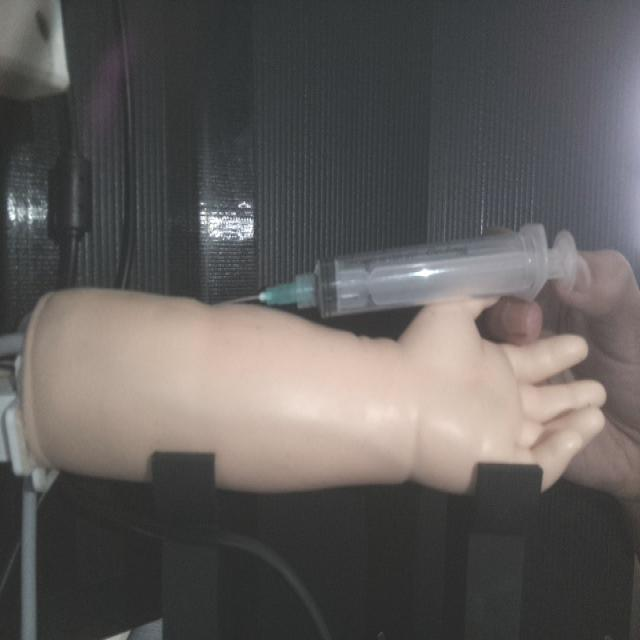Below 15 degrees: (225, 219, 582, 320)
